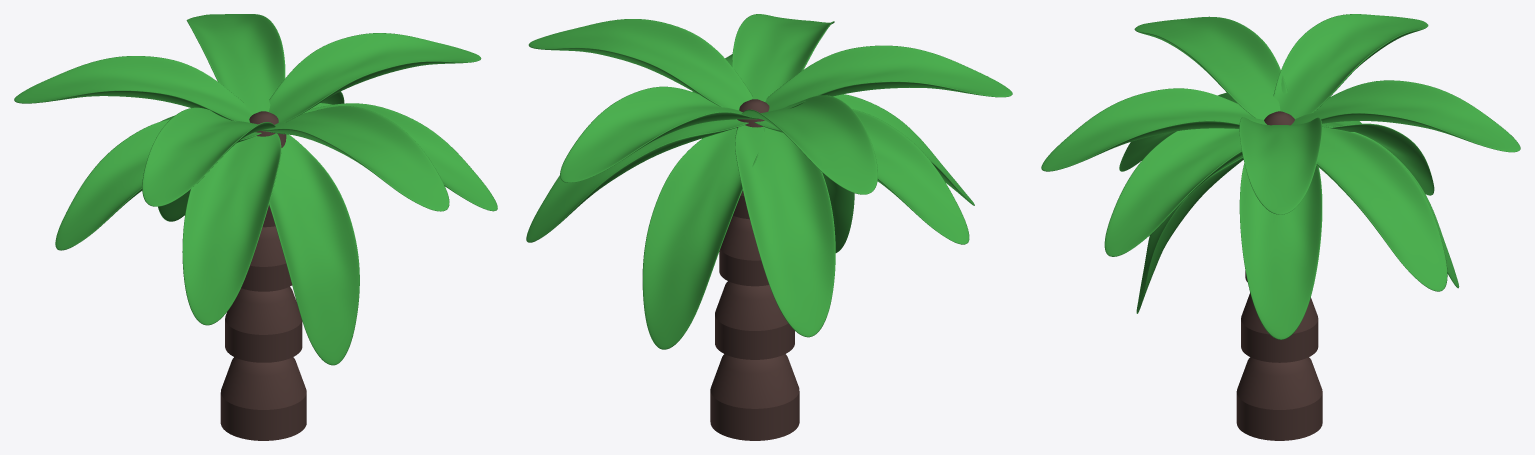
File: tree5.fbx
3 renders of one model, left to right at view 1: azimuth 30°, elevation 25°; view 2: azimuth 150°, elevation 25°; view 3: azimuth 270°, elevation 25°, orthographic. The views are drawn at different scales.
Visible parts, largest first — view 1: pCylinder33, pDisc5, pDisc4, pDisc12, pDisc11, pDisc9, pDisc10, pDisc13, pDisc3, pDisc6, pDisc1; view 2: pCylinder33, pDisc2, pDisc1, pDisc11, pDisc13, pDisc10, pDisc9, pDisc3, pDisc12, pDisc8, pDisc4, pDisc5; view 3: pDisc8, pCylinder33, pDisc7, pDisc6, pDisc12, pDisc9, pDisc10, pDisc13, pDisc11, pDisc2, pDisc5, pDisc4 (+1 smaller).
Boxes of the visible parts, x1,y1,x2,y2 form: pCylinder33: (220,111,306,440); pDisc5: (269,134,359,365); pDisc4: (182,133,281,325); pDisc12: (261,106,449,211); pDisc11: (269,33,481,122); pDisc9: (14,56,251,122); pDisc10: (186,14,285,114); pDisc13: (142,107,275,206); pDisc3: (55,119,261,250); pDisc6: (270,103,497,211); pDisc1: (158,189,190,221); pCylinder33: (710,99,799,440); pDisc2: (735,125,835,337); pDisc1: (642,126,764,349); pDisc11: (528,19,752,110); pDisc13: (765,45,1012,111); pDisc10: (560,86,758,182); pDisc9: (741,95,877,194); pDisc3: (754,109,969,244); pDisc12: (732,14,834,101); pDisc8: (526,119,748,242); pDisc4: (833,94,974,205); pDisc5: (822,172,854,252); pDisc8: (1316,126,1447,291); pCylinder33: (1236,111,1322,440); pDisc7: (1239,162,1322,339); pDisc6: (1104,128,1242,256); pDisc12: (1041,88,1266,171); pDisc9: (1273,14,1428,118); pDisc10: (1291,80,1520,152); pDisc13: (1134,16,1287,119); pDisc11: (1239,117,1322,214); pDisc2: (1322,121,1434,195); pDisc5: (1136,155,1243,313); pDisc4: (1119,92,1237,171).
Size of the model in its own units: 11.32 by 8.85 by 11.15.
